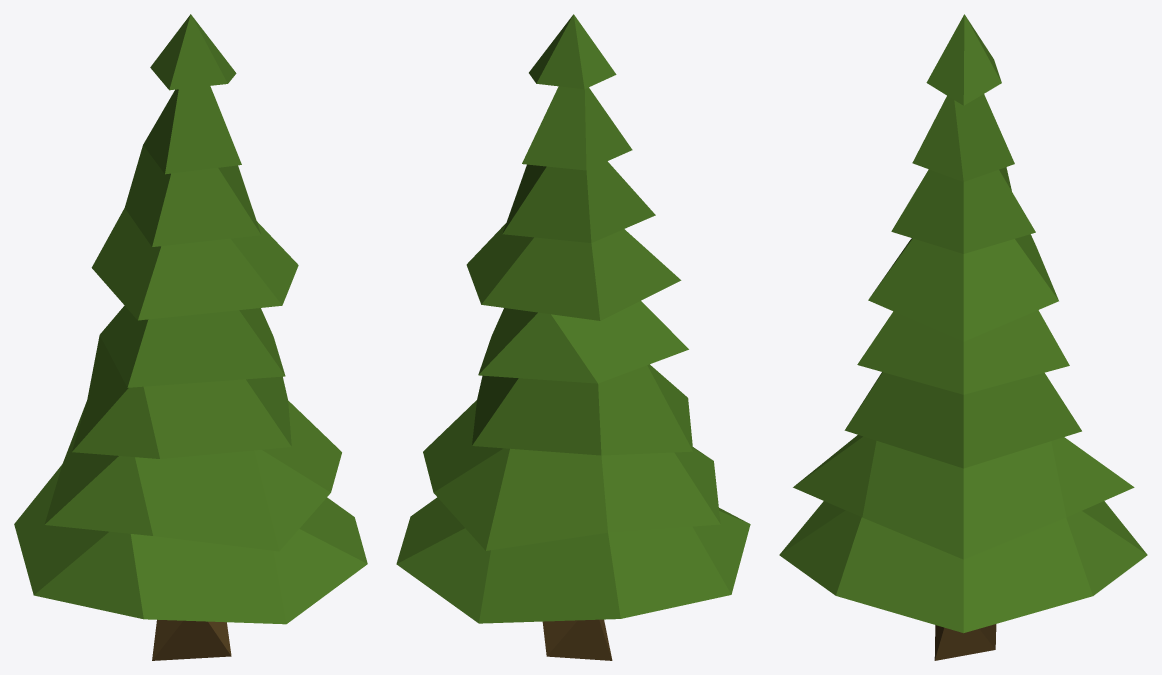
The model's file is pinetree.gltf.
The picture shows the model from 3 angles, left to right: view 1: azimuth 30°, elevation 25°; view 2: azimuth 150°, elevation 25°; view 3: azimuth 270°, elevation 25°; orthographic projection.
Parts seen in each view (by area): view 1: leafs; view 2: leafs; view 3: leafs.
Boxes of the visible parts, left/top/right/bottom form: leafs: left=14, top=14, right=367, bottom=660; leafs: left=396, top=14, right=750, bottom=660; leafs: left=779, top=14, right=1147, bottom=660.
Size of the model in its own units: 511 by 971 by 511.
